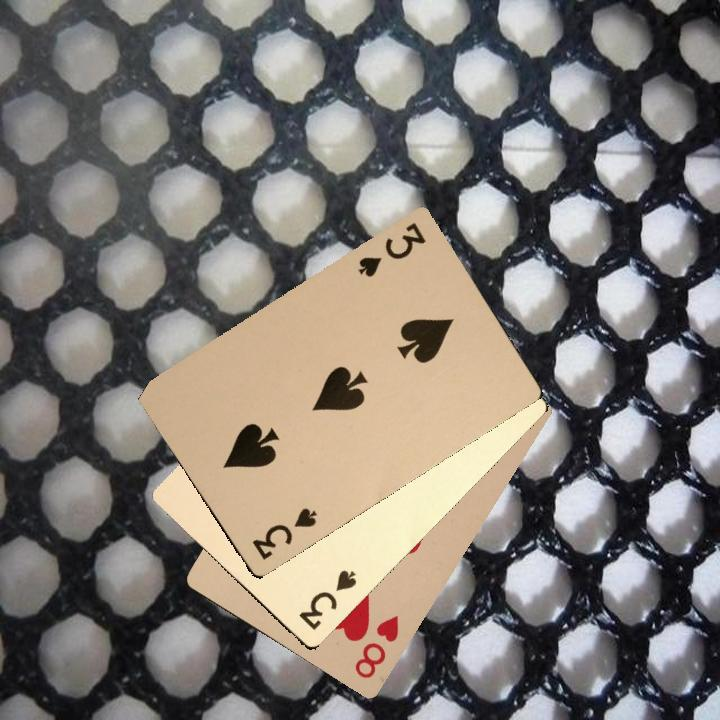3s: (354, 218, 429, 280), (295, 565, 360, 633), (248, 503, 320, 562)
8h: (350, 611, 402, 681)
